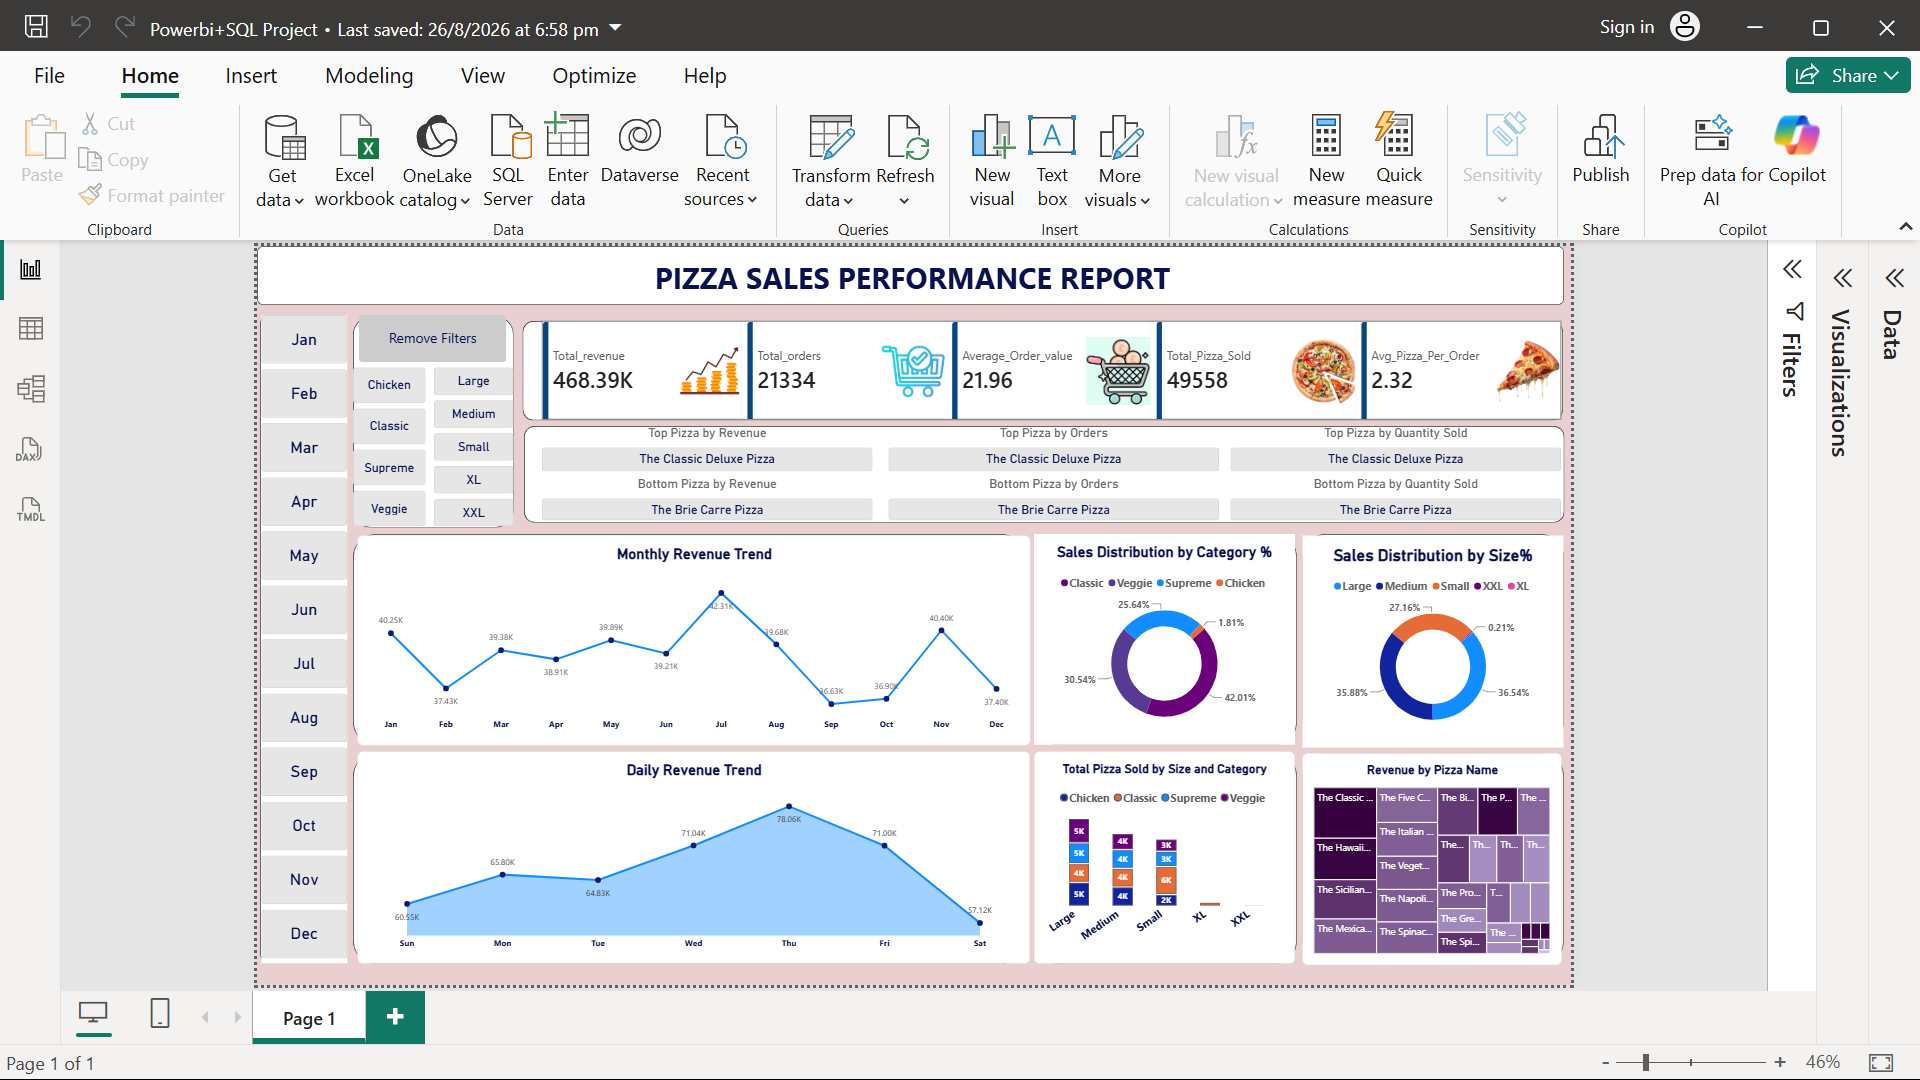

What the dashboard file says about the page in this screenshot:
{"tool":"powerbi","page":{"name":"Page 1","canvas":[1920,1080],"ordinal":0},"visuals":[{"type":"group","id":"g1","title":"Group 1","box":[0,0,1910.9,1049.2],"z":0},{"type":"shape","box":[0,0,1910.2,86.3],"z":0,"group":"g1"},{"type":"shape","box":[3.8,101.6,122.7,947.1],"z":1000,"group":"g1"},{"type":"areaChart","title":"Daily Revenue Trend","fields":{"Category":["Pizza Sales.Day"],"Y":["All Measures.Total_revenue"]},"box":[146.8,739,982.9,310.3],"z":1000},{"type":"donutChart","title":"Sales Distribution by Size%","fields":{"Y":["All Measures.Total_revenue"],"Category":["Pizza Sales.pizza_size"]},"box":[1528.6,422.5,381.3,310.3],"z":2000},{"type":"shape","box":[139.6,739.9,981.2,308.5],"z":2000,"group":"g1"},{"type":"shape","box":[139.6,103,234.8,308.5],"z":3000,"group":"g1"},{"type":"columnChart","title":"Total  Pizza Sold by Size and Category","fields":{"Category":["Pizza Sales.pizza_size"],"Y":["All Measures.Total_Pizza_Sold"],"Series":["Pizza Sales.pizza_category"]},"box":[1135.7,738.2,381.3,310.3],"z":3000},{"type":"advancedSlicerVisual","title":"Top Pizza by Revenue","fields":{"Values":["Pizza Sales.pizza_name"]},"box":[416.8,262.9,483.2,66.3],"z":4000},{"type":"shape","box":[139.6,421.4,981.2,308.5],"z":4000,"group":"g1"},{"type":"shape","box":[389.7,262.9,1520.5,141.3],"z":5000,"group":"g1"},{"type":"treemap","title":"Revenue by Pizza Name","fields":{"Group":["Pizza Sales.pizza_name"],"Values":["All Measures.Total_revenue"]},"box":[1528.6,740.4,379,310.3],"z":5000},{"type":"shape","box":[387.2,109,1520.5,145.3],"z":6000,"group":"g1"},{"type":"lineChart","title":"Monthly Revenue Trend","fields":{"Category":["Pizza Sales.Month"],"Y":["All Measures.Total_revenue"]},"box":[147.6,422.5,983.5,306.6],"z":6000},{"type":"shape","box":[1136.7,421.4,382.1,308.5],"z":7000,"group":"g1"},{"type":"advancedSlicerVisual","title":"Bottom Pizza by Revenue","fields":{"Values":["Pizza Sales.pizza_name"]},"box":[416.8,338.7,483.2,63.9],"z":8000},{"type":"shape","box":[1528.8,421.4,382.1,308.5],"z":8000,"group":"g1"},{"type":"advancedSlicerVisual","title":"Top Pizza by Orders","fields":{"Values":["Pizza Sales.pizza_name"]},"box":[923.7,262.9,483.2,66.3],"z":9000},{"type":"shape","box":[1136.7,739.9,382.1,308.5],"z":9000,"group":"g1"},{"type":"advancedSlicerVisual","title":"Bottom Pizza by Orders","fields":{"Values":["Pizza Sales.pizza_name"]},"box":[923.7,338.7,483.2,63.9],"z":10000},{"type":"shape","box":[1528.8,739.9,382.1,308.5],"z":10000,"group":"g1"},{"type":"advancedSlicerVisual","fields":{"Values":["Pizza Sales.Month"]},"box":[6.9,101.8,125.5,947.4],"z":11000,"group":"g1"},{"type":"advancedSlicerVisual","title":"Top Pizza by Quantity Sold","fields":{"Values":["Pizza Sales.pizza_name"]},"box":[1423.4,262.9,483.2,66.3],"z":11000},{"type":"advancedSlicerVisual","fields":{"Values":["Pizza Sales.pizza_category"]},"box":[139.7,177.6,106.6,232.1],"z":12000,"group":"g1"},{"type":"advancedSlicerVisual","title":"Bottom Pizza by Quantity Sold","fields":{"Values":["Pizza Sales.pizza_name"]},"box":[1423.4,338.7,483.2,63.9],"z":12000},{"type":"cardVisual","fields":{"Data":["All Measures.Total_revenue","All Measures.Total_orders","All Measures.Average_Order_value","All Measures.Total_Pizza_Sold","All Measures.Avg_Pizza_Per_Order"]},"box":[416.8,108.9,1489.8,144.5],"z":13000},{"type":"advancedSlicerVisual","fields":{"Values":["Pizza Sales.pizza_size"]},"box":[258.2,177.6,116.1,232.1],"z":14000},{"type":"actionButton","box":[149.2,101.8,215.5,68.7],"z":15000},{"type":"textbox","box":[5,17.5,1907.5,70],"z":16000},{"type":"donutChart","title":"Sales Distribution by Category %","fields":{"Category":["Pizza Sales.pizza_category"],"Y":["All Measures.Total_revenue"]},"box":[1135.7,420.2,381.3,307.9],"z":16002}]}

Visuals, with their boxes on the page's 1920x1080 design canvas (x1, y1, x2, y2). These are canvas units, not pixel positions in the 1920x1080 screenshot, which may show the page scaled, cropped or inside an application window:
"Group 1" group: [left=0, top=0, right=1911, bottom=1049]
shape: [left=0, top=0, right=1910, bottom=86]
shape: [left=4, top=102, right=126, bottom=1049]
"Daily Revenue Trend" areaChart: [left=147, top=739, right=1130, bottom=1049]
"Sales Distribution by Size%" donutChart: [left=1529, top=422, right=1910, bottom=733]
shape: [left=140, top=740, right=1121, bottom=1048]
shape: [left=140, top=103, right=374, bottom=412]
"Total  Pizza Sold by Size and Category" columnChart: [left=1136, top=738, right=1517, bottom=1048]
"Top Pizza by Revenue" advancedSlicerVisual: [left=417, top=263, right=900, bottom=329]
shape: [left=140, top=421, right=1121, bottom=730]
shape: [left=390, top=263, right=1910, bottom=404]
"Revenue by Pizza Name" treemap: [left=1529, top=740, right=1908, bottom=1051]
shape: [left=387, top=109, right=1908, bottom=254]
"Monthly Revenue Trend" lineChart: [left=148, top=422, right=1131, bottom=729]
shape: [left=1137, top=421, right=1519, bottom=730]
"Bottom Pizza by Revenue" advancedSlicerVisual: [left=417, top=339, right=900, bottom=403]
shape: [left=1529, top=421, right=1911, bottom=730]
"Top Pizza by Orders" advancedSlicerVisual: [left=924, top=263, right=1407, bottom=329]
shape: [left=1137, top=740, right=1519, bottom=1048]
"Bottom Pizza by Orders" advancedSlicerVisual: [left=924, top=339, right=1407, bottom=403]
shape: [left=1529, top=740, right=1911, bottom=1048]
advancedSlicerVisual - Pizza Sales.Month: [left=7, top=102, right=132, bottom=1049]
"Top Pizza by Quantity Sold" advancedSlicerVisual: [left=1423, top=263, right=1907, bottom=329]
advancedSlicerVisual - Pizza Sales.pizza_category: [left=140, top=178, right=246, bottom=410]
"Bottom Pizza by Quantity Sold" advancedSlicerVisual: [left=1423, top=339, right=1907, bottom=403]
cardVisual - All Measures.Total_revenue x All Measures.Total_orders: [left=417, top=109, right=1907, bottom=253]
advancedSlicerVisual - Pizza Sales.pizza_size: [left=258, top=178, right=374, bottom=410]
actionButton: [left=149, top=102, right=365, bottom=170]
textbox: [left=5, top=18, right=1912, bottom=88]
"Sales Distribution by Category %" donutChart: [left=1136, top=420, right=1517, bottom=728]
